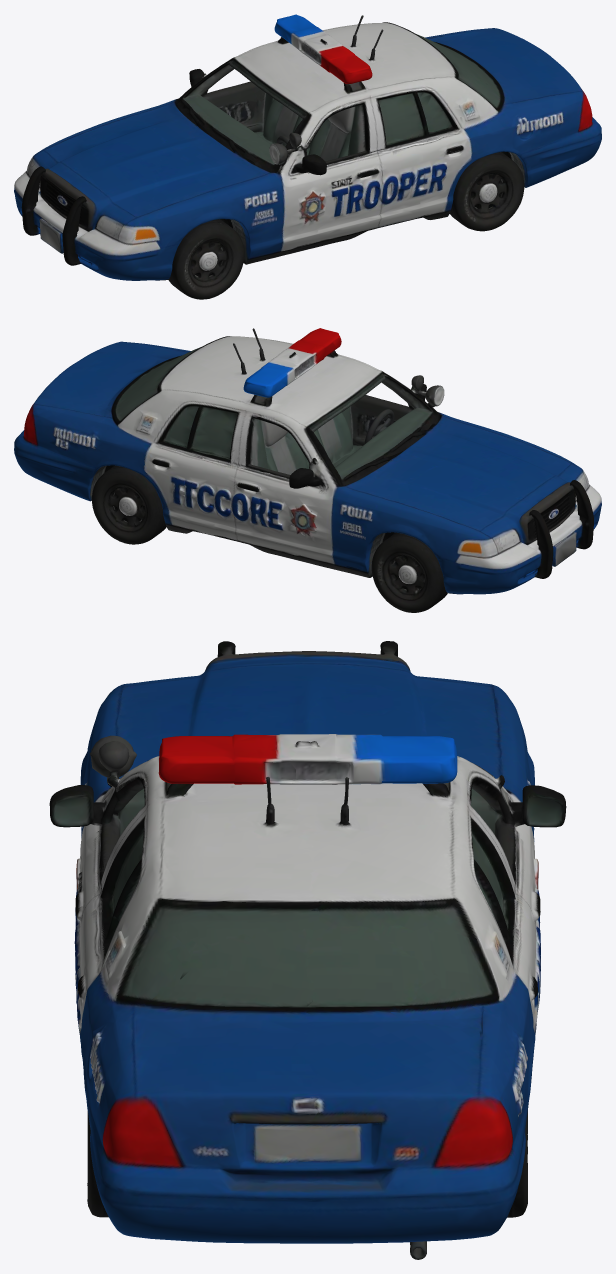
File: 035_highway_patrol_muscle.glb
3 renders of one model, top to bottom at view 1: azimuth 30°, elevation 25°; view 2: azimuth 150°, elevation 25°; view 3: azimuth 270°, elevation 25°, orthographic. The views are drawn at different scales.
Visible parts, largest first — view 1: geometry_0; view 2: geometry_0; view 3: geometry_0.
Part boxes in pixels (x1=…): geometry_0: x1=14, y1=14, x2=601, y2=299; geometry_0: x1=14, y1=328, x2=601, y2=612; geometry_0: x1=49, y1=641, x2=566, y2=1259.
Bounding box in the file's own units: 5.2 × 1.78 × 2.24.
1 material, 1 textured.
